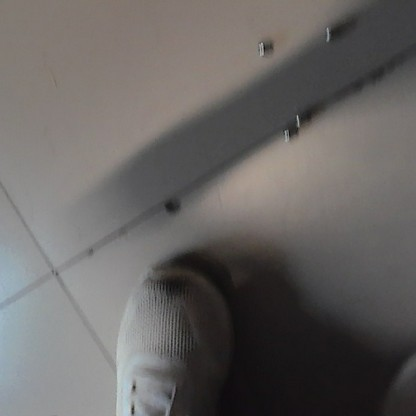ironball: (252, 36, 273, 55), (320, 23, 339, 43), (281, 124, 298, 143), (292, 107, 309, 125)
